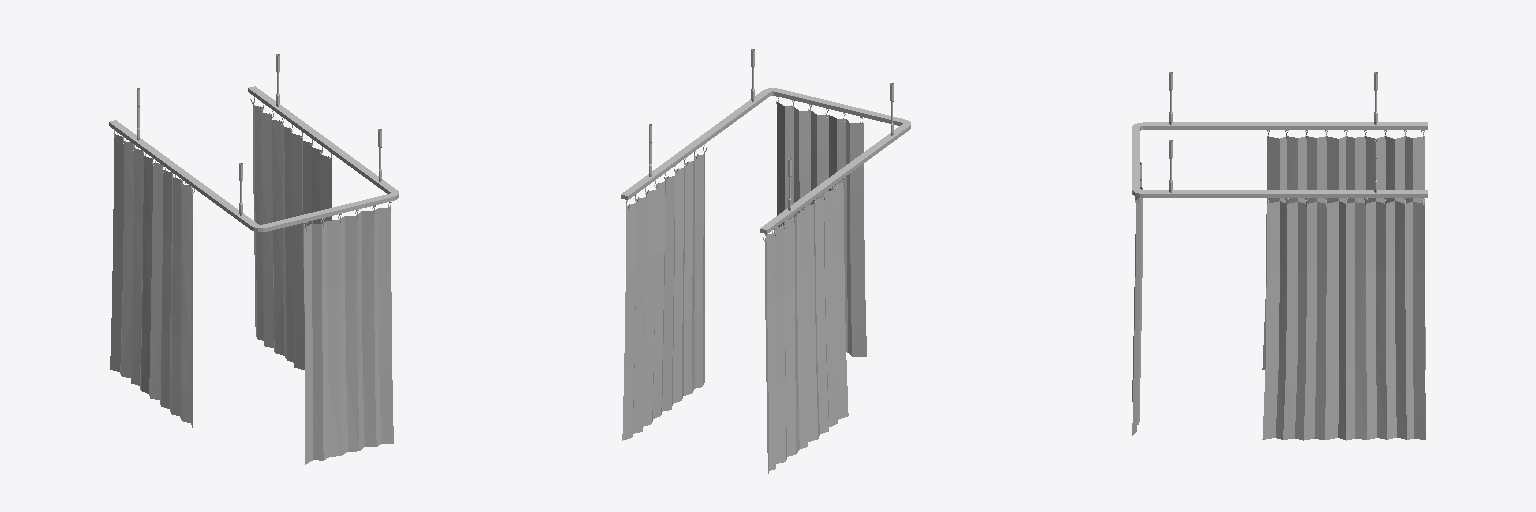
The model's file is bed-curtain.obj.
The picture shows the model from 3 angles: view 1: azimuth 30°, elevation 25°; view 2: azimuth 150°, elevation 25°; view 3: azimuth 270°, elevation 25°; orthographic projection.
Parts seen in each view (by area): view 1: defaultMaterial.003, defaultMaterial.020, defaultMaterial.010, defaultMaterial.002; view 2: defaultMaterial.020, defaultMaterial.010, defaultMaterial.003, defaultMaterial.002; view 3: defaultMaterial.010, defaultMaterial.020, defaultMaterial.002, defaultMaterial.003.
Boxes of the visible parts, x1=… form: defaultMaterial.003: x1=304, y1=207, x2=393, y2=464; defaultMaterial.020: x1=110, y1=134, x2=192, y2=427; defaultMaterial.010: x1=253, y1=102, x2=331, y2=369; defaultMaterial.002: x1=109, y1=54, x2=398, y2=231; defaultMaterial.020: x1=765, y1=183, x2=848, y2=473; defaultMaterial.010: x1=622, y1=152, x2=704, y2=440; defaultMaterial.003: x1=777, y1=102, x2=866, y2=356; defaultMaterial.002: x1=621, y1=49, x2=910, y2=233; defaultMaterial.010: x1=1262, y1=201, x2=1425, y2=440; defaultMaterial.020: x1=1262, y1=136, x2=1425, y2=369; defaultMaterial.002: x1=1132, y1=72, x2=1427, y2=197; defaultMaterial.003: x1=1132, y1=162, x2=1142, y2=435.
Bounding box in the file's own units: 4.22 × 8.21 × 7.39.